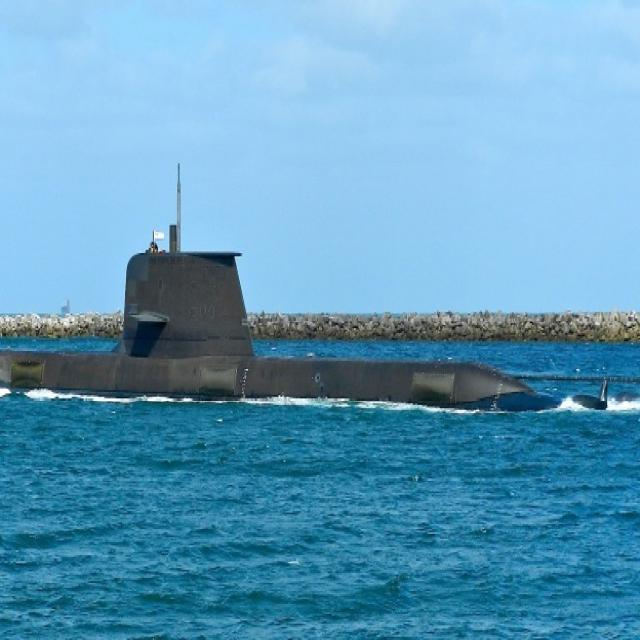submarine: (1, 251, 612, 411)
